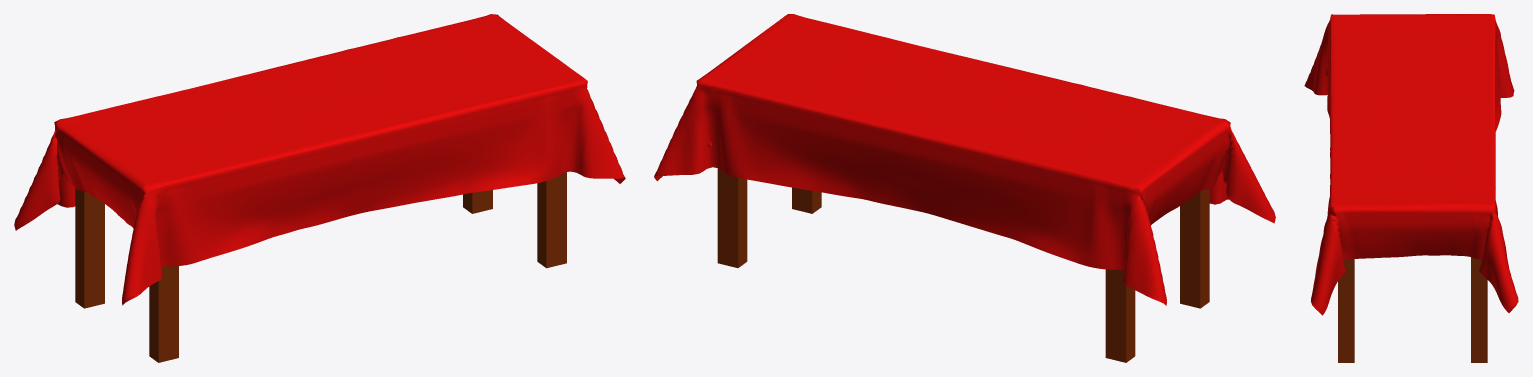
File: DESK_LOW-POLY.glb
3 views of the same model, side by side, from view 1: azimuth 30°, elevation 25°; view 2: azimuth 150°, elevation 25°; view 3: azimuth 270°, elevation 25° (orthographic). The views are drawn at different scales.
Parts seen in each view (by area): view 1: MESA; view 2: MESA; view 3: MESA.
Boxes of the visible parts, x1,y1,x2,y2 form: MESA: (14, 14, 625, 362); MESA: (654, 14, 1275, 362); MESA: (1304, 14, 1518, 362).
Bounding box in the file's own units: 6.59 × 2.27 × 2.68.
